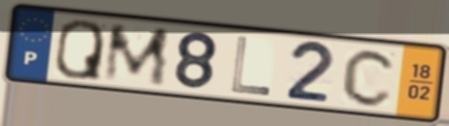2: (285, 38, 337, 108)
8: (171, 29, 221, 92)
C: (339, 46, 400, 109)
L: (229, 34, 273, 98)
M: (101, 22, 173, 88)
Q: (52, 17, 106, 83)
